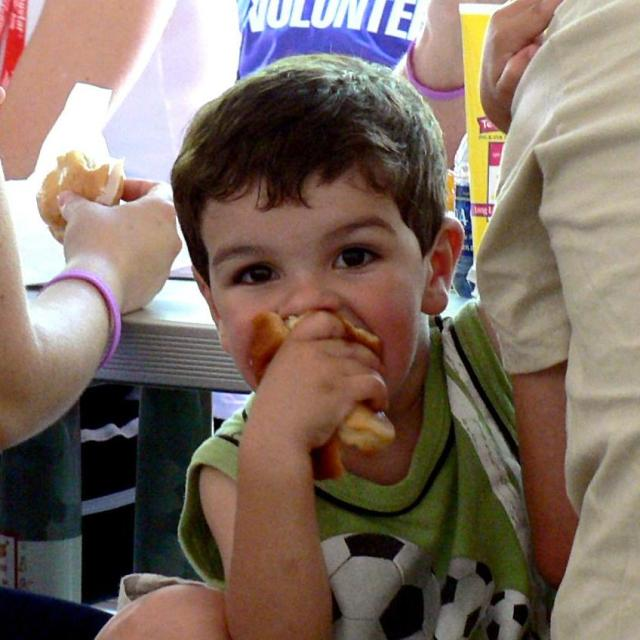no-glass: (234, 246, 382, 288)
